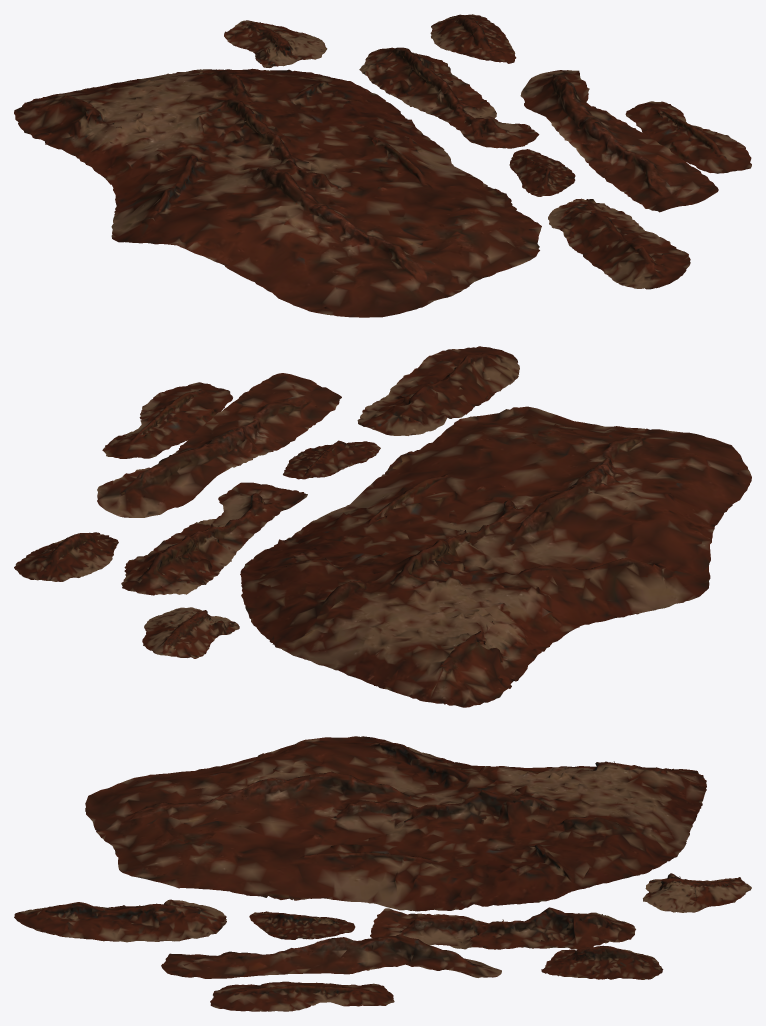
File: roots.glb
The picture shows the model from 3 angles, top to bottom: view 1: azimuth 30°, elevation 25°; view 2: azimuth 150°, elevation 25°; view 3: azimuth 270°, elevation 25°; orthographic projection. The views are drawn at different scales.
Visible parts, largest first — view 1: root_cluster_02_a, root_cluster_02_f, root_cluster_02_d, root_cluster_02_b, root_cluster_02_g, root_cluster_02_e, root_cluster_02_h, root_cluster_02_c; view 2: root_cluster_02_a, root_cluster_02_f, root_cluster_02_d, root_cluster_02_b, root_cluster_02_g, root_cluster_02_h, root_cluster_02_e, root_cluster_02_c; view 3: root_cluster_02_a, root_cluster_02_f, root_cluster_02_d, root_cluster_02_b, root_cluster_02_g, root_cluster_02_h, root_cluster_02_e, root_cluster_02_c.
Part boxes in pixels (left/top/right/bottom): root_cluster_02_a: left=14, top=68, right=541, bottom=317; root_cluster_02_f: left=520, top=70, right=718, bottom=212; root_cluster_02_d: left=359, top=47, right=539, bottom=148; root_cluster_02_b: left=548, top=198, right=690, bottom=289; root_cluster_02_g: left=625, top=101, right=751, bottom=173; root_cluster_02_e: left=224, top=20, right=327, bottom=67; root_cluster_02_h: left=430, top=14, right=516, bottom=63; root_cluster_02_c: left=509, top=149, right=575, bottom=196; root_cluster_02_a: left=240, top=406, right=751, bottom=707; root_cluster_02_f: left=97, top=373, right=341, bottom=517; root_cluster_02_d: left=121, top=482, right=307, bottom=595; root_cluster_02_b: left=357, top=346, right=519, bottom=435; root_cluster_02_g: left=102, top=382, right=232, bottom=458; root_cluster_02_h: left=14, top=532, right=118, bottom=581; root_cluster_02_e: left=142, top=607, right=239, bottom=658; root_cluster_02_c: left=283, top=440, right=380, bottom=479; root_cluster_02_a: left=85, top=736, right=706, bottom=911; root_cluster_02_f: left=161, top=934, right=501, bottom=978; root_cluster_02_d: left=370, top=907, right=635, bottom=949; root_cluster_02_b: left=14, top=899, right=226, bottom=942; root_cluster_02_g: left=210, top=981, right=394, bottom=1011; root_cluster_02_h: left=541, top=945, right=663, bottom=979; root_cluster_02_e: left=643, top=873, right=751, bottom=912; root_cluster_02_c: left=249, top=911, right=355, bottom=939.
Size of the model in its own units: 2.38 by 0.1975 by 2.71.
1 material, 1 textured.
